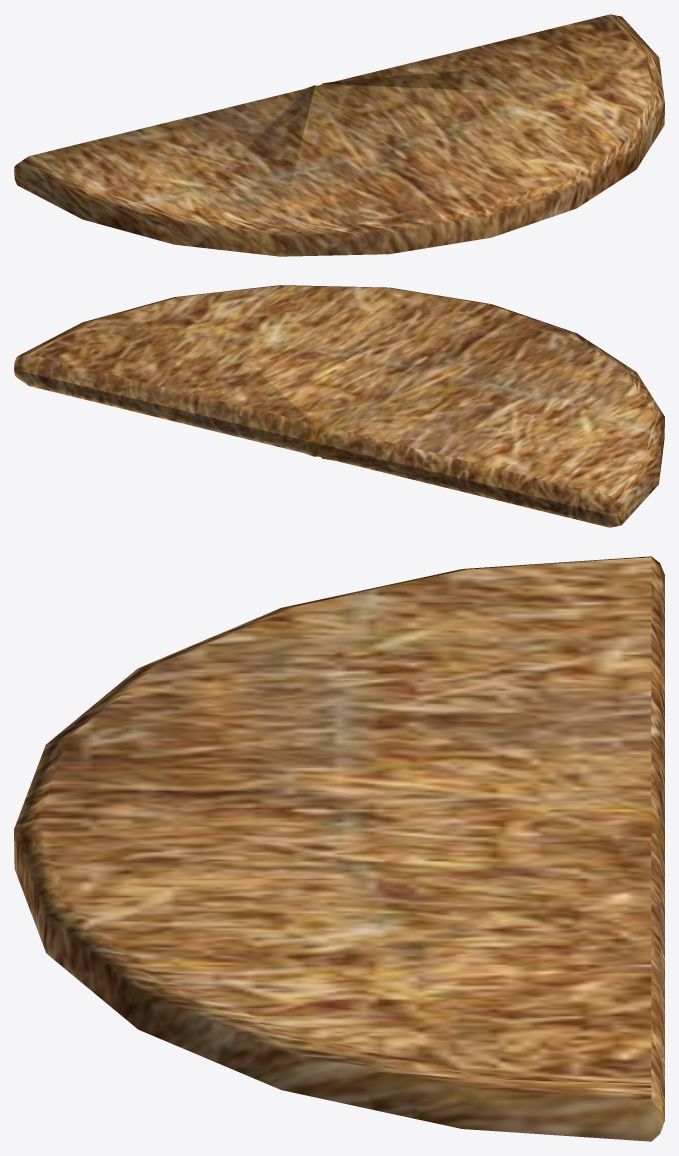
The model's file is Plat_roccia02.FBX.
3 renders of one model, top to bottom at view 1: azimuth 30°, elevation 25°; view 2: azimuth 150°, elevation 25°; view 3: azimuth 270°, elevation 25°, orthographic. The views are drawn at different scales.
Parts seen in each view (by area): view 1: PlatRoccia002; view 2: PlatRoccia002; view 3: PlatRoccia002.
Part boxes in pixels (x1,y1,x2,y2): PlatRoccia002: [14, 14, 664, 256]; PlatRoccia002: [14, 285, 664, 527]; PlatRoccia002: [14, 556, 664, 1141].
Size of the model in its own units: 802 by 40.32 by 404.
1 material, 1 textured.
